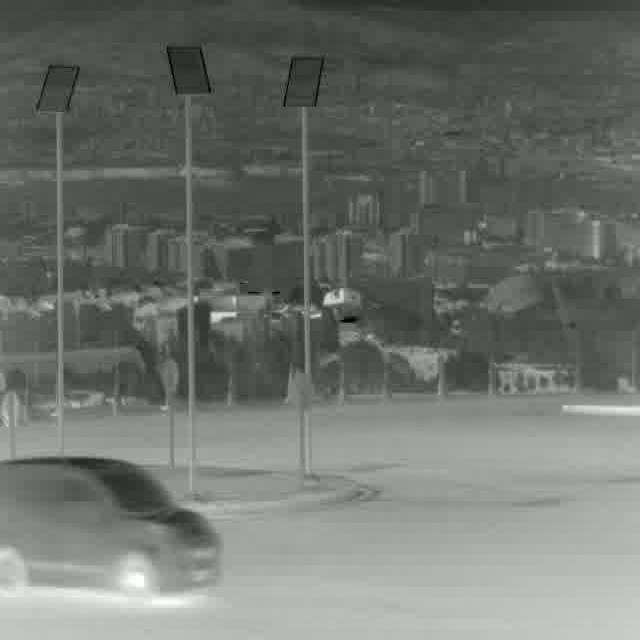Car: (0, 460, 223, 600)
